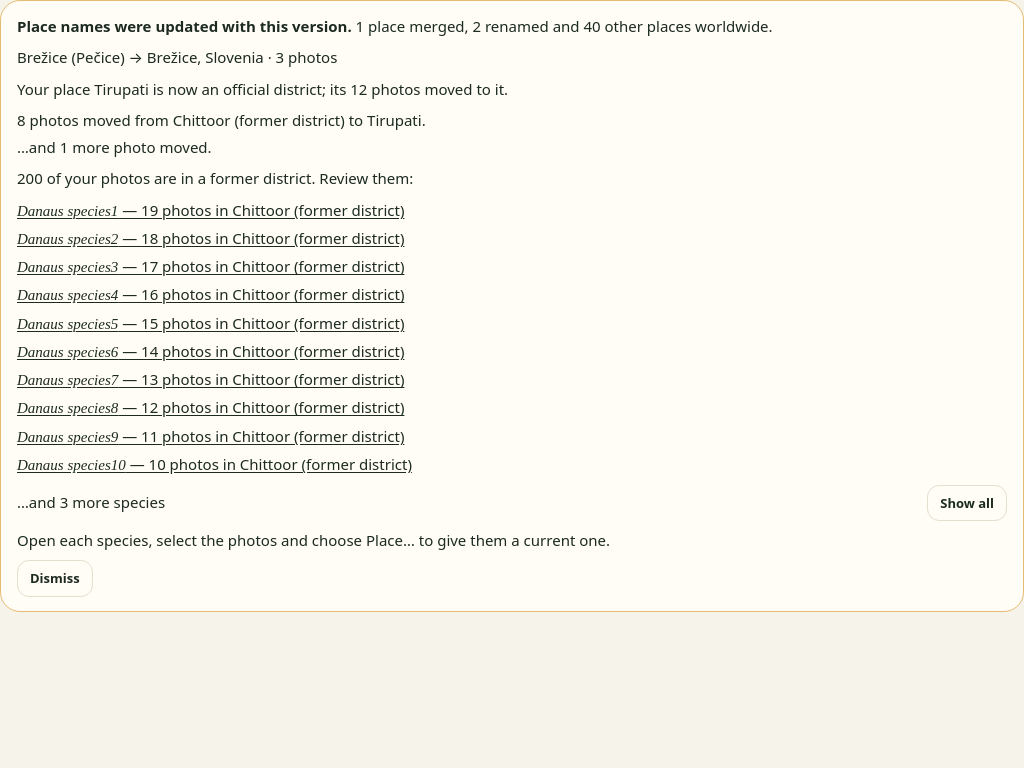
Test: more than ten species lines: the first ten, "…and N more species", and Show all lists the rest in place with focus on the first new line
Click the button "Show all" at (967, 503), box [927, 485, 1007, 521]
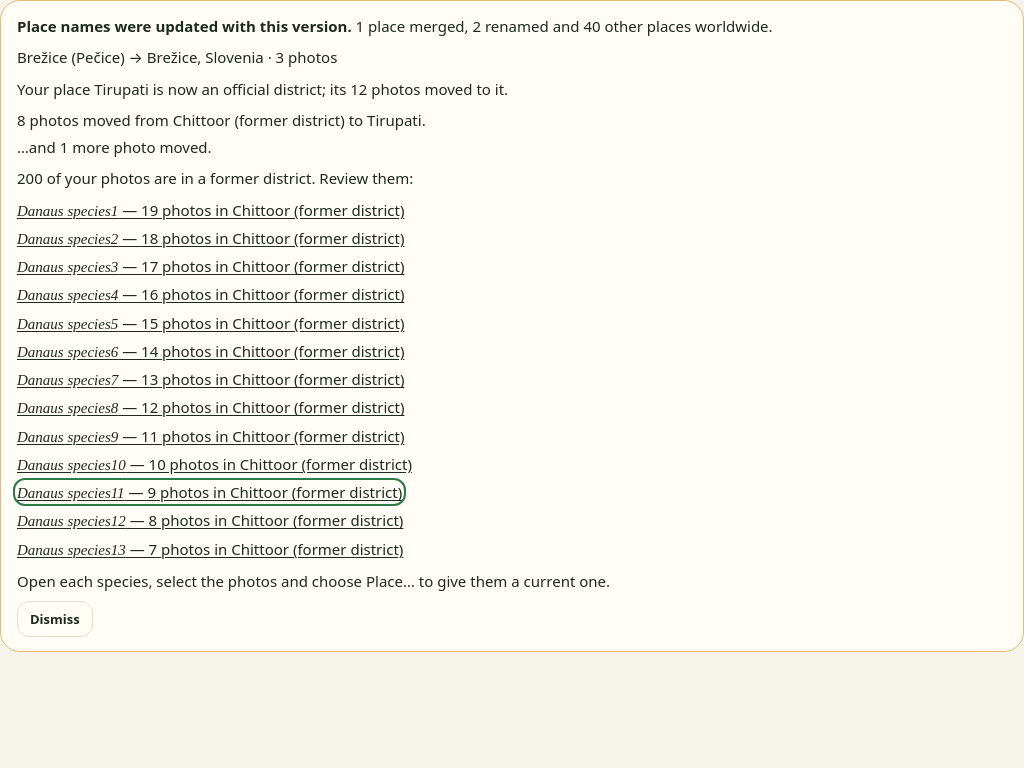
Result: the link "Danaus species11 — 9 photos in Chittoor (former district)" is shown at [17, 482, 402, 502]
Result: the button "Show all" is gone
Result: the text "more species" is gone
